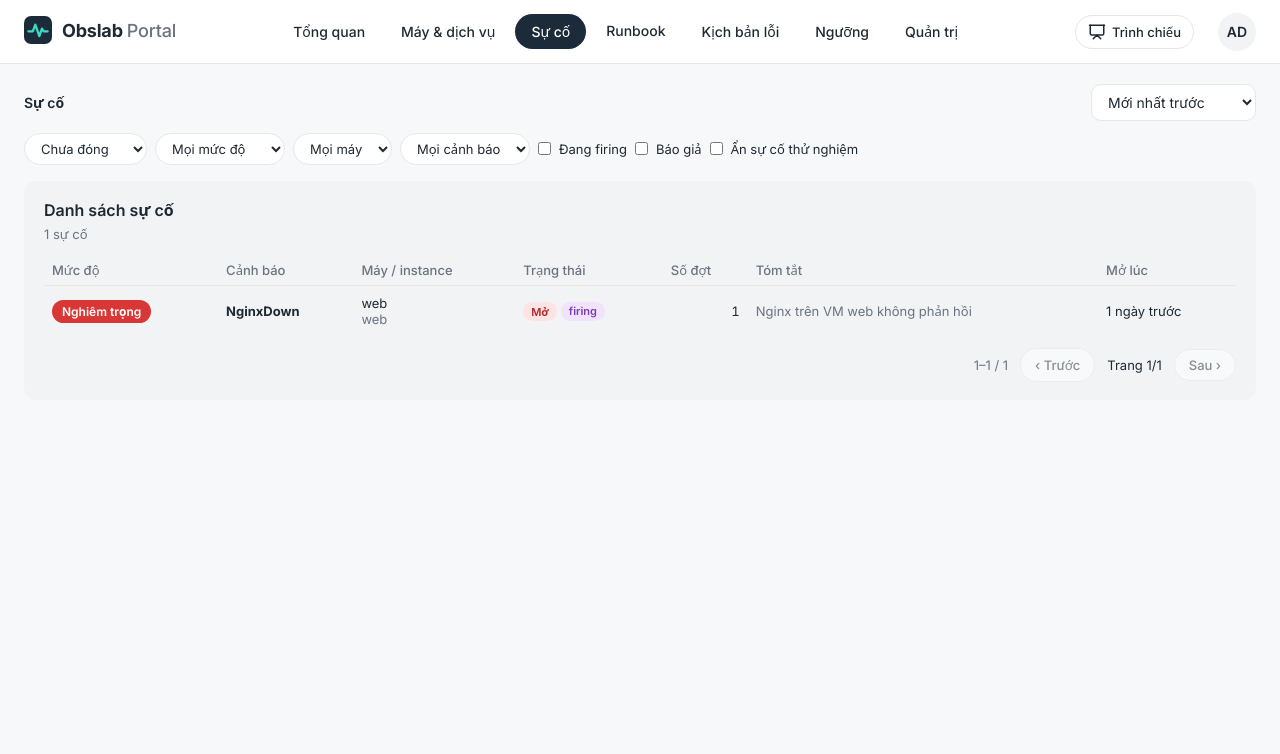
Scenario: danh sách sự cố › chọn 'Tất cả' thì không gửi status; bấm dòng mở chi tiết
Step 1. Select "Tất cả" in the dropdown named "Trạng thái xử lý" → (86, 149), box [24,133,147,165]
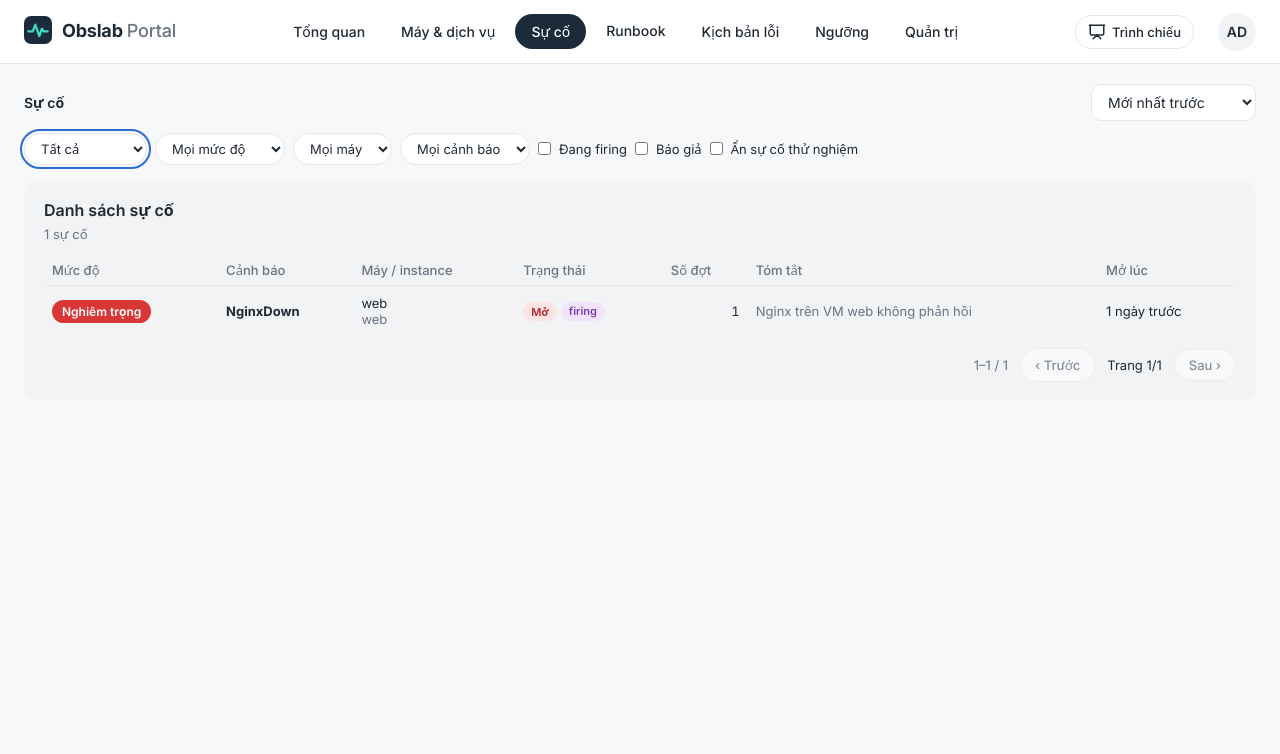
Step 2. Click the text "NginxDown" → (263, 311), box [226,303,300,319]
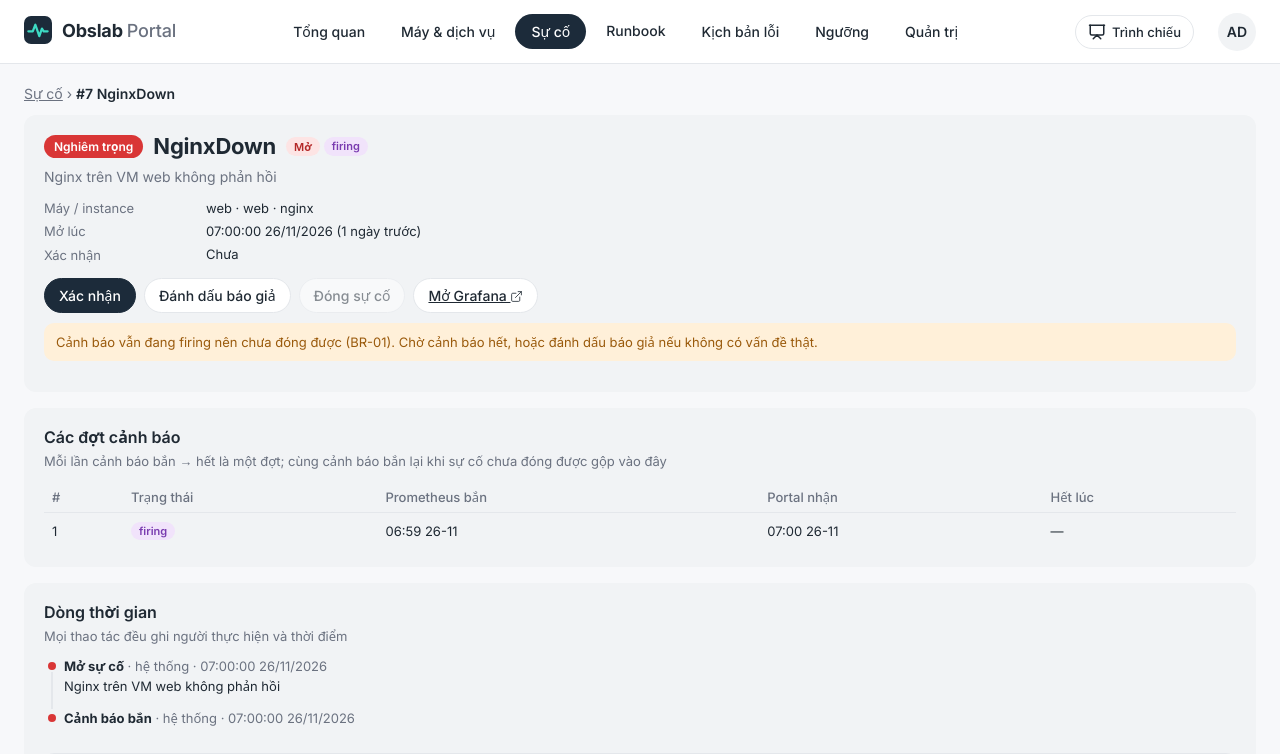
Result: the heading "NginxDown" is shown at [153,133,276,159]
